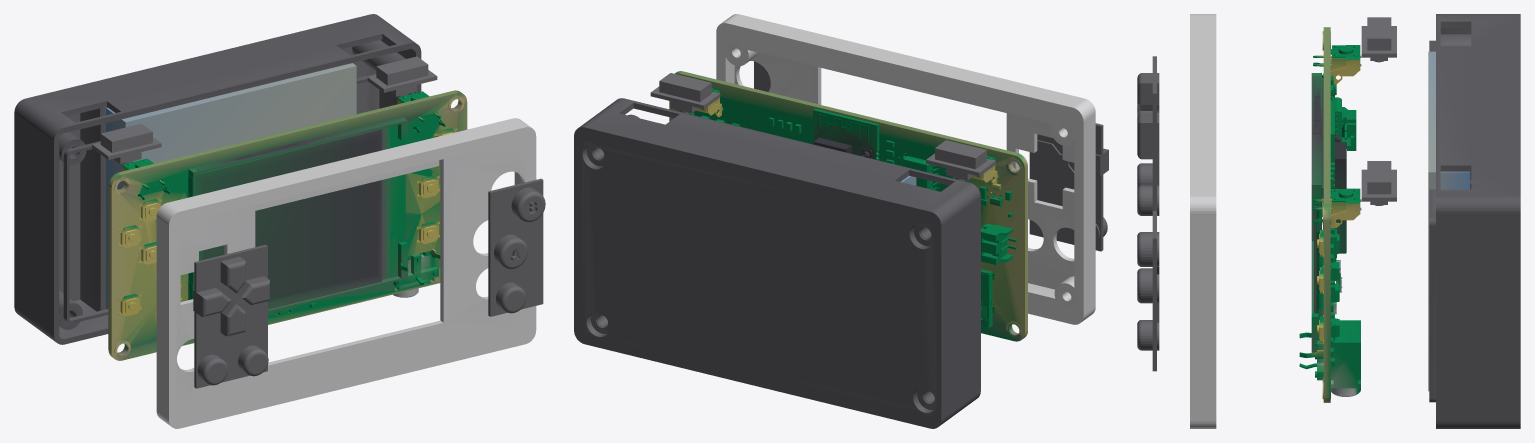
The model's file is assembly_open.glb.
3 views of the same model, side by side, from view 1: azimuth 30°, elevation 25°; view 2: azimuth 150°, elevation 25°; view 3: azimuth 270°, elevation 25° (orthographic). The views are drawn at different scales.
Visible parts, largest first — view 1: Board, Top_V7, Bottom_V7, Battery, Btn_L, Btn_R, Shoulder_L, Shoulder_R; view 2: Bottom_V7, Top_V7, Board, Btn_L, Shoulder_R, Shoulder_L; view 3: Bottom_V7, Board, Top_V7, Btn_L, Btn_R, Battery, Shoulder_R, Shoulder_L.
Part boxes in pixels (box(x1,y1,x2,y2)): Board: box(108, 90, 467, 360); Top_V7: box(156, 118, 536, 428); Bottom_V7: box(14, 14, 421, 344); Battery: box(106, 63, 356, 309); Btn_L: box(193, 244, 269, 388); Btn_R: box(488, 178, 545, 316); Shoulder_L: box(92, 123, 161, 164); Shoulder_R: box(367, 56, 437, 96); Bottom_V7: box(574, 98, 980, 428); Top_V7: box(716, 14, 1095, 324); Board: box(669, 71, 1027, 341); Btn_L: box(1029, 123, 1108, 251); Shoulder_R: box(650, 73, 720, 113); Shoulder_L: box(926, 140, 995, 180); Bottom_V7: box(1429, 14, 1520, 428); Board: box(1299, 27, 1361, 402); Top_V7: box(1190, 14, 1216, 428); Btn_L: box(1137, 56, 1159, 215); Btn_R: box(1137, 211, 1159, 371); Battery: box(1428, 51, 1469, 391); Shoulder_R: box(1361, 161, 1396, 205); Shoulder_L: box(1361, 17, 1396, 62).
Bounding box in the file's own units: 103 × 59.8 × 87.3.
